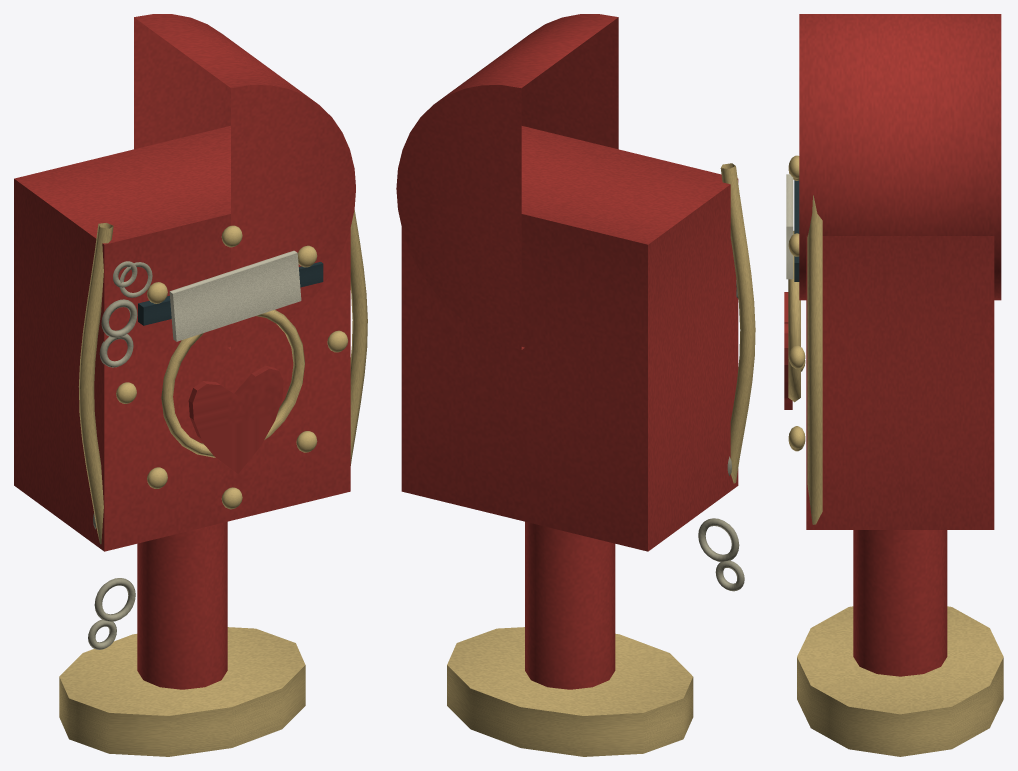
Rendered from mailbox.glb.
3 renders of one model, left to right at view 1: azimuth 30°, elevation 25°; view 2: azimuth 150°, elevation 25°; view 3: azimuth 270°, elevation 25°, orthographic. The views are drawn at different scales.
Visible parts, largest first — view 1: static_ornament; view 2: static_ornament; view 3: static_ornament.
Part boxes in pixels (box(x1,y1,x2,y2)): static_ornament: box(14, 14, 367, 756); static_ornament: box(396, 14, 755, 756); static_ornament: box(784, 14, 1003, 756).
Bounding box in the file's own units: 0.7341 × 1.61 × 0.467.
1 material, 1 textured.
